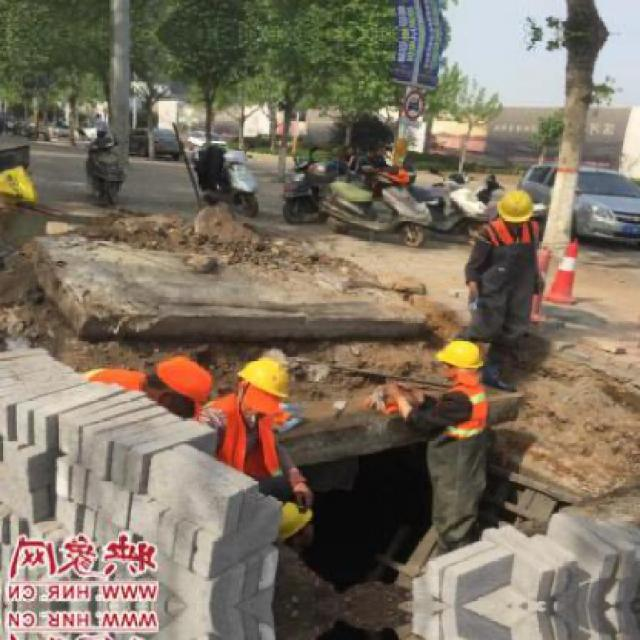helmet: (236, 354, 286, 415), (434, 338, 481, 377), (498, 188, 536, 225)
